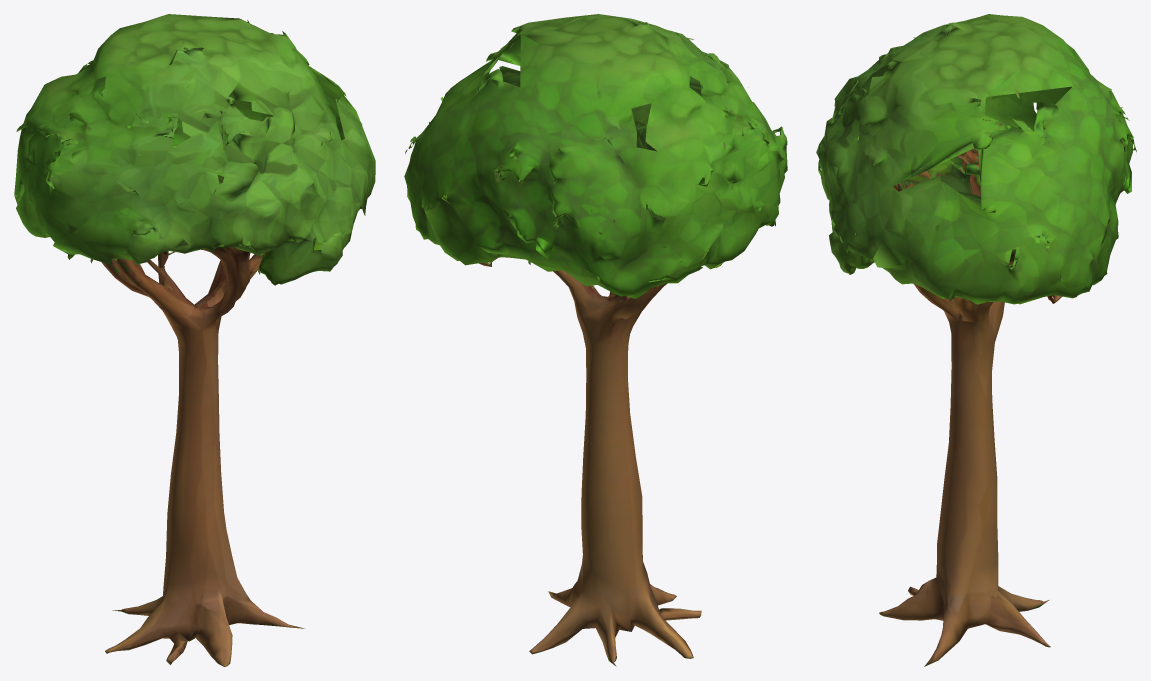
Rendered from Meshy_AI_low_poly_tree_0425215540_texture.fbx.
3 views of the same model, side by side, from view 1: azimuth 30°, elevation 25°; view 2: azimuth 150°, elevation 25°; view 3: azimuth 270°, elevation 25° (orthographic). The views are drawn at different scales.
Visible parts, largest first — view 1: Mesh1; view 2: Mesh1; view 3: Mesh1.
Part boxes in pixels (box(x1,y1,x2,y2)): Mesh1: box(14, 14, 375, 666); Mesh1: box(404, 14, 787, 666); Mesh1: box(816, 14, 1136, 666).
Size of the model in its own units: 115 by 198 by 96.79.
Materials: 1 (1 with a texture image).
